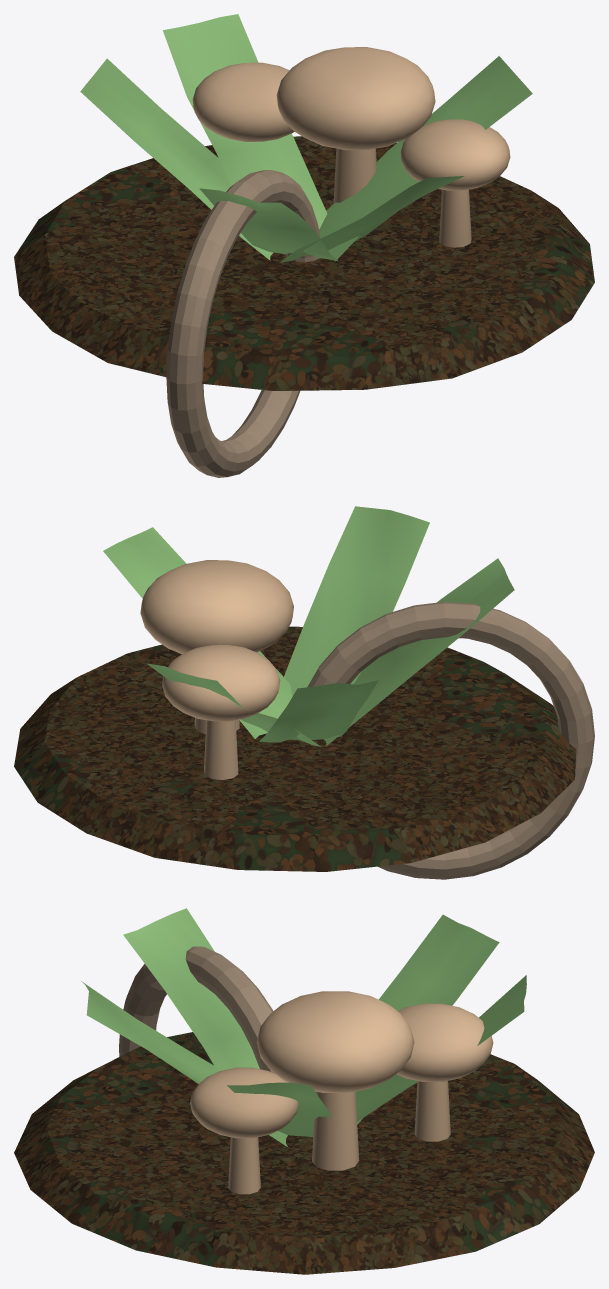
File: forest-floor-cluster-v01.glb
3 renders of one model, top to bottom at view 1: azimuth 30°, elevation 25°; view 2: azimuth 150°, elevation 25°; view 3: azimuth 270°, elevation 25°, orthographic. The views are drawn at different scales.
Parts seen in each view (by area): view 1: forest-floor-cluster; view 2: forest-floor-cluster; view 3: forest-floor-cluster.
Part boxes in pixels (x1,y1,x2,y2): forest-floor-cluster: (14,14,594,477); forest-floor-cluster: (14,506,594,879); forest-floor-cluster: (14,908,594,1274).
Size of the model in its own units: 1.9 by 1.15 by 1.91.
Materials: 4 (1 with a texture image).
